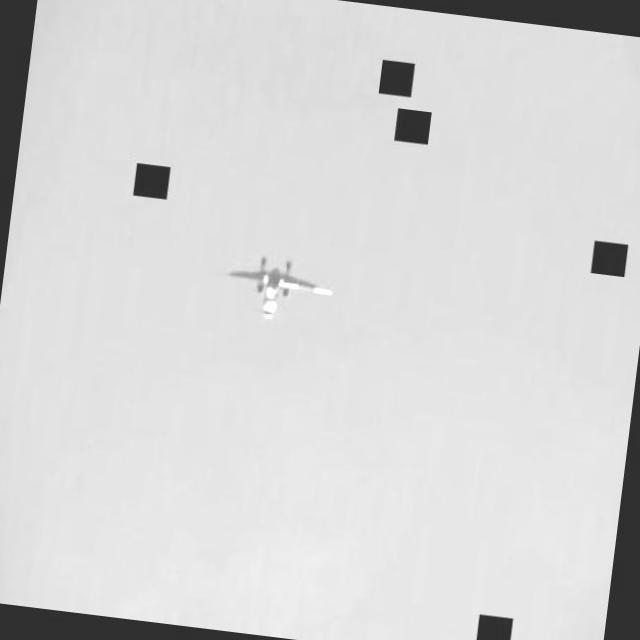aeroplane: (214, 263, 341, 330)
